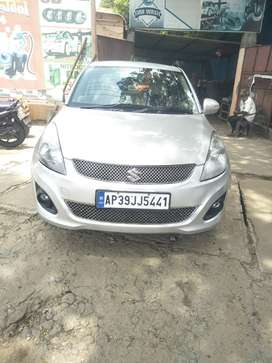AP39JJ5441: (96, 191, 169, 210)
